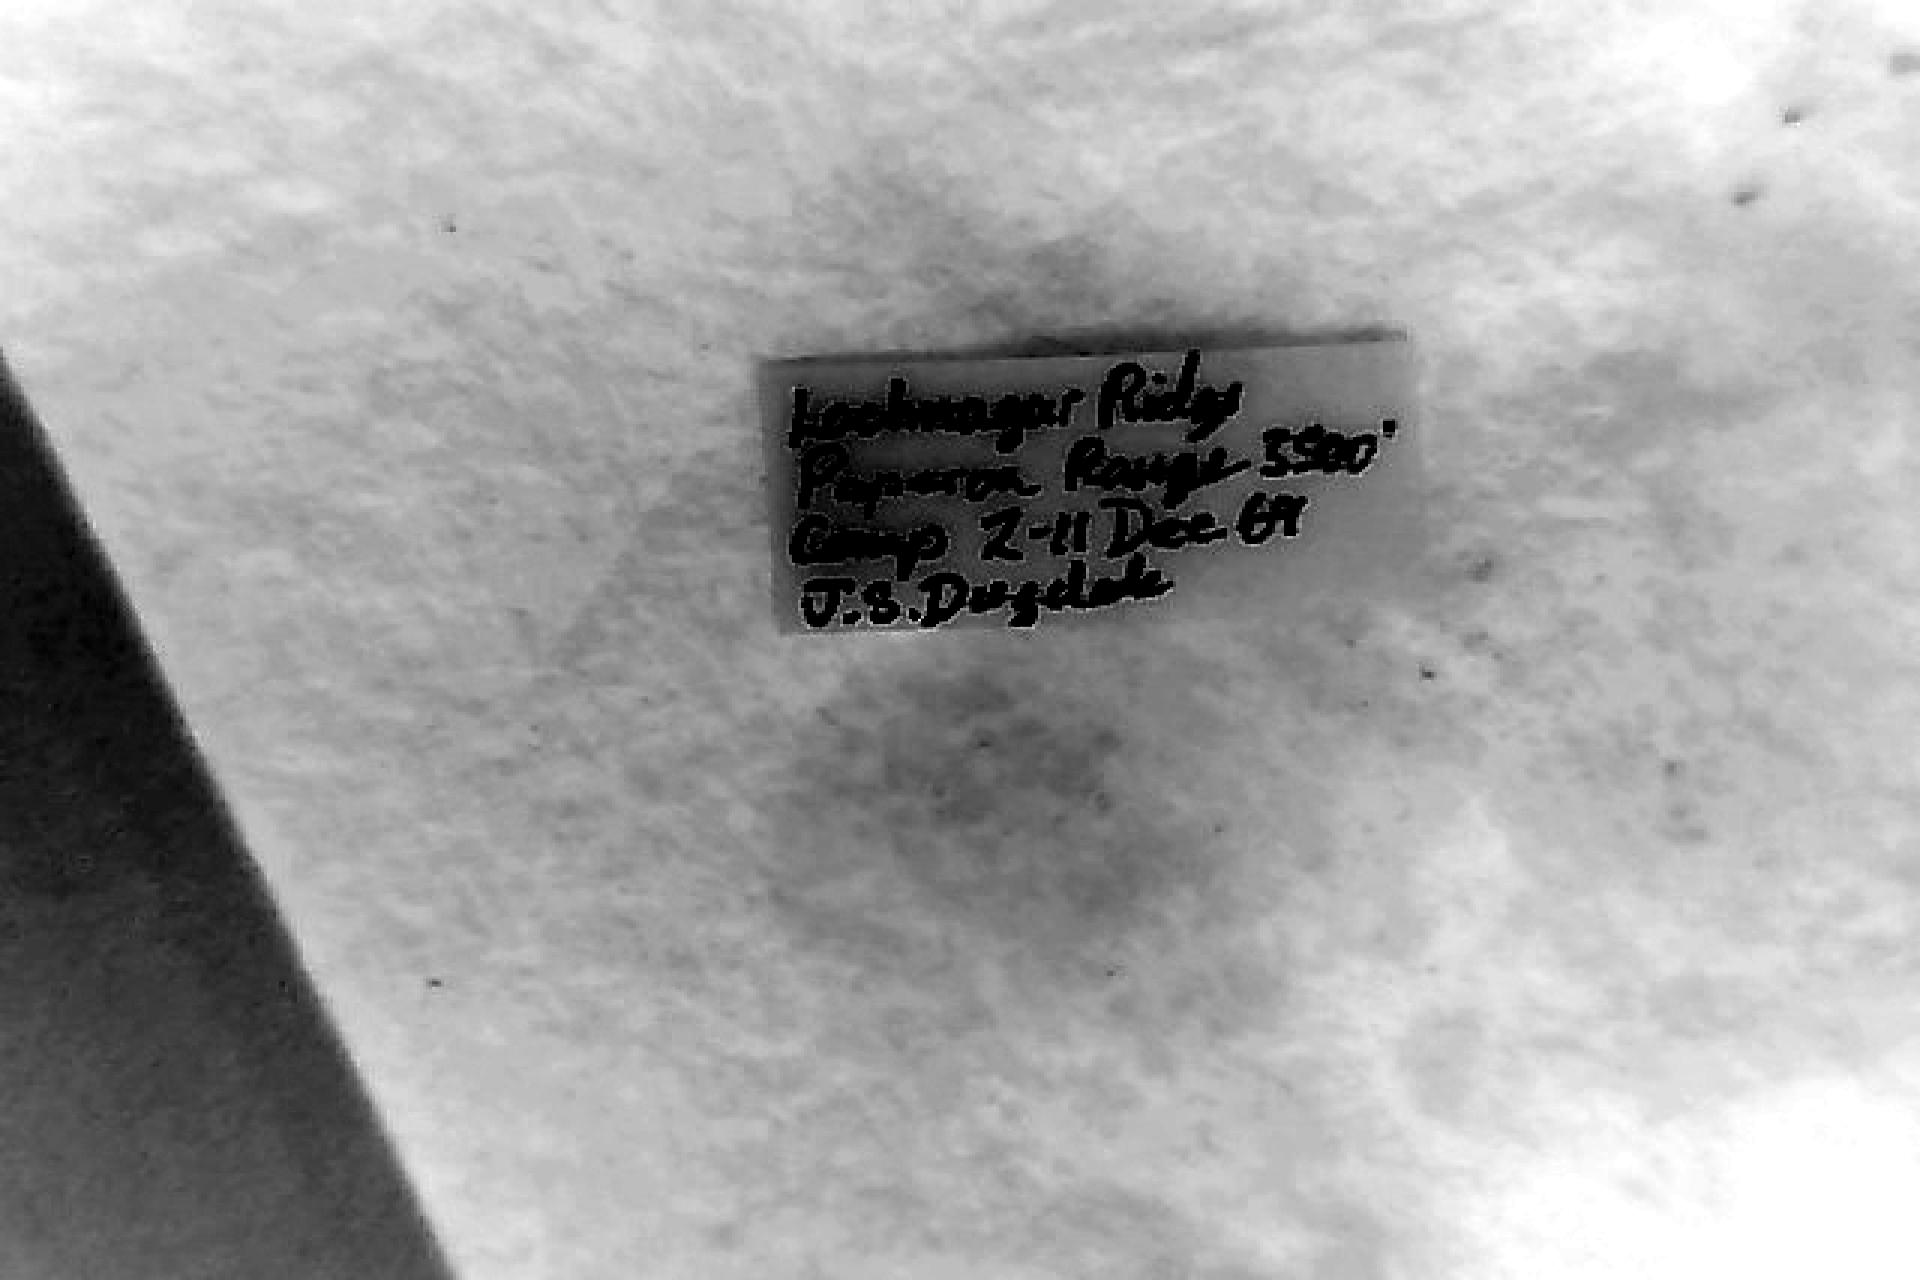hand_label: (761, 341, 1421, 631)
